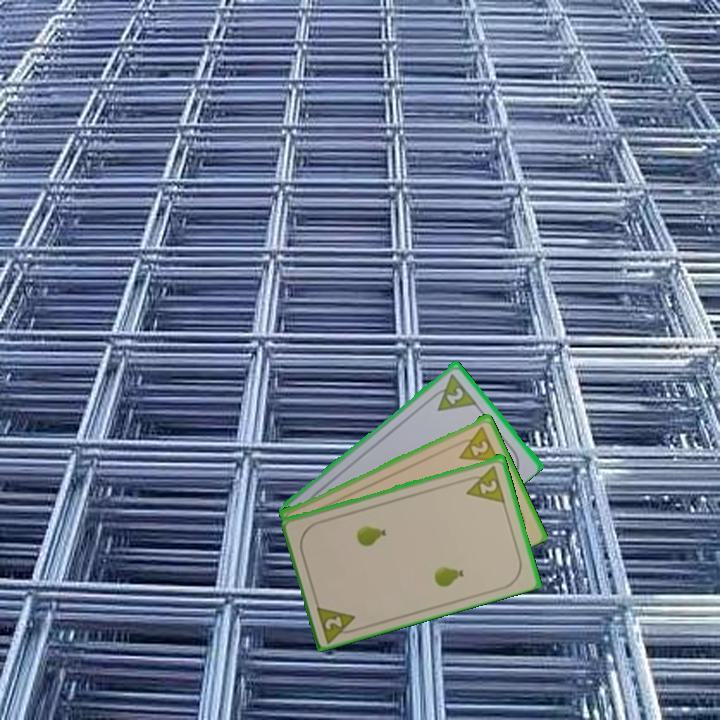2p: (313, 600, 363, 644), (451, 422, 501, 464), (460, 462, 508, 505), (443, 383, 467, 407)
